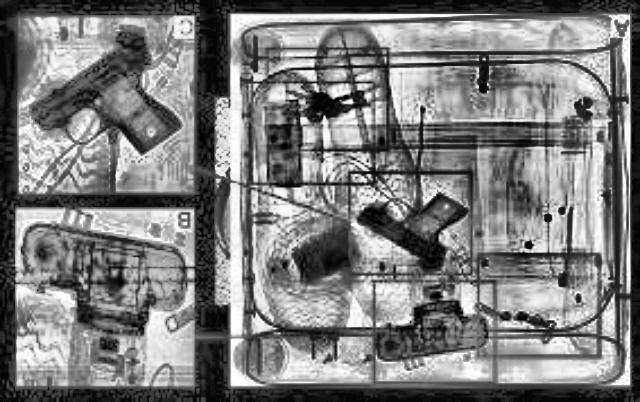Gun: (25, 21, 182, 153), (352, 190, 468, 266)
